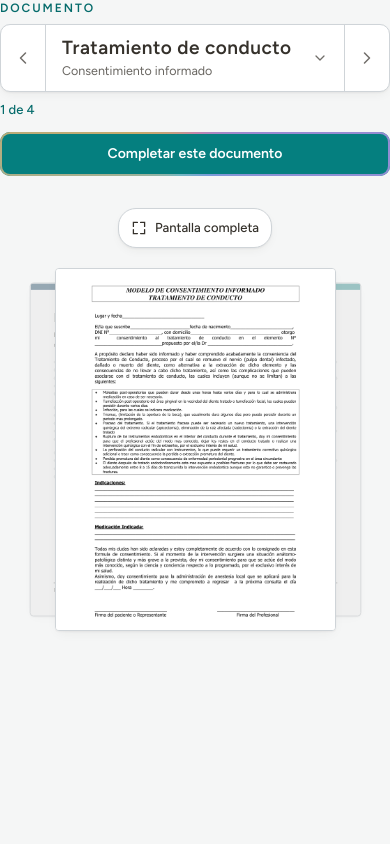
Test: ModuloDocumentos › a pantalla completa, una hoja de muestra se ve igual
This screenshot has width=390, height=844.
Click the button named "Documento siguiente": (367, 58) 345,25 -> 389,91
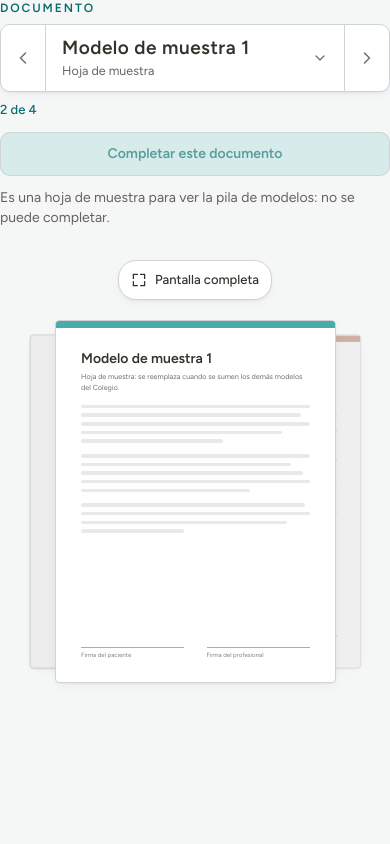
Click the button "Pantalla completa": (195, 280) 118,260 -> 272,300
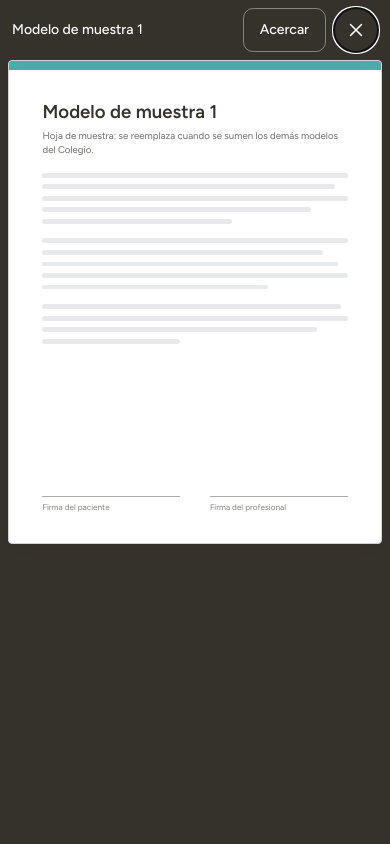
Now the picture named "Modelo de muestra 1: hoja de muestra" is shown, box 8,60 -> 382,544
